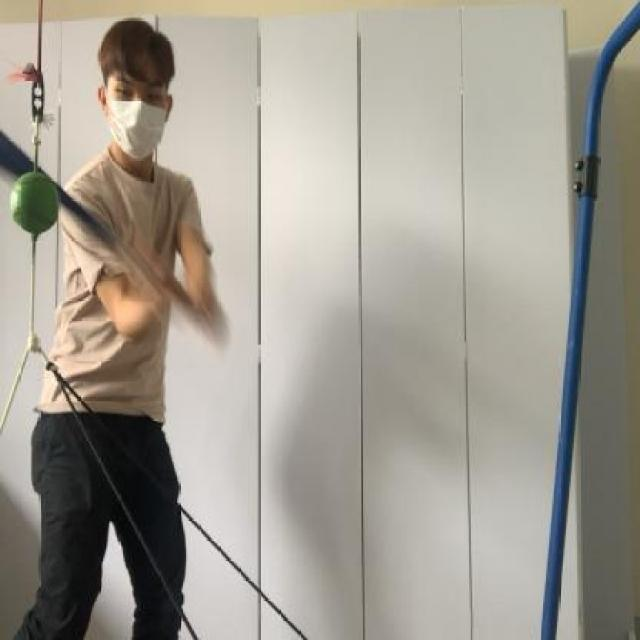baseball: (7, 169, 59, 237)
